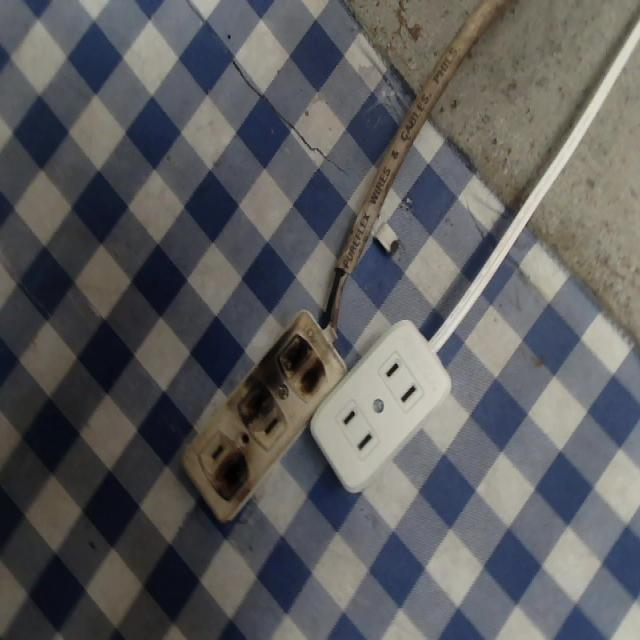-: (276, 323, 333, 396), (207, 445, 254, 507), (234, 363, 271, 424)
